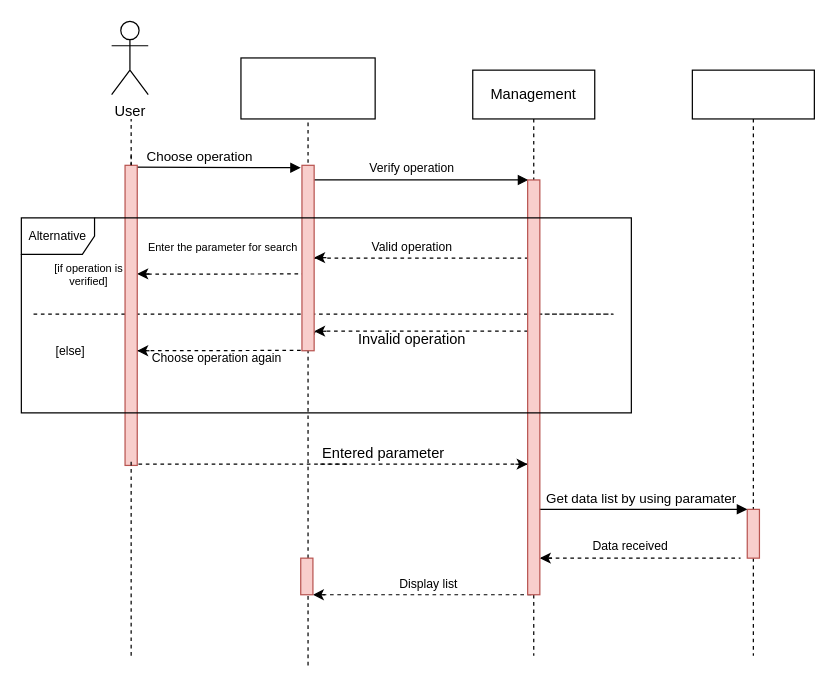
Image size: 836x688. Some labels were removed from this diagram. The box of each missing label's shape, as (x1, y1, x2, y2) in pixels:
Database: (691, 69, 814, 656)
«interface» UI: (240, 57, 375, 119)
